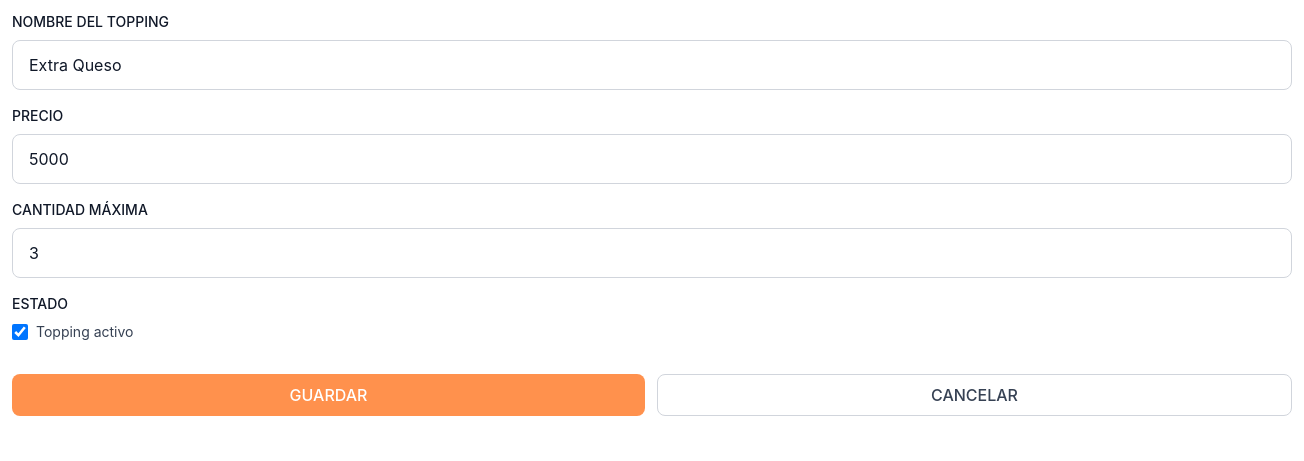
Test: EditToppingForm › Form validation › should show error when price is empty
The image size is (1304, 461).
Clear the number field showing "5000" at x=652, y=159, box [12,134,1292,184]
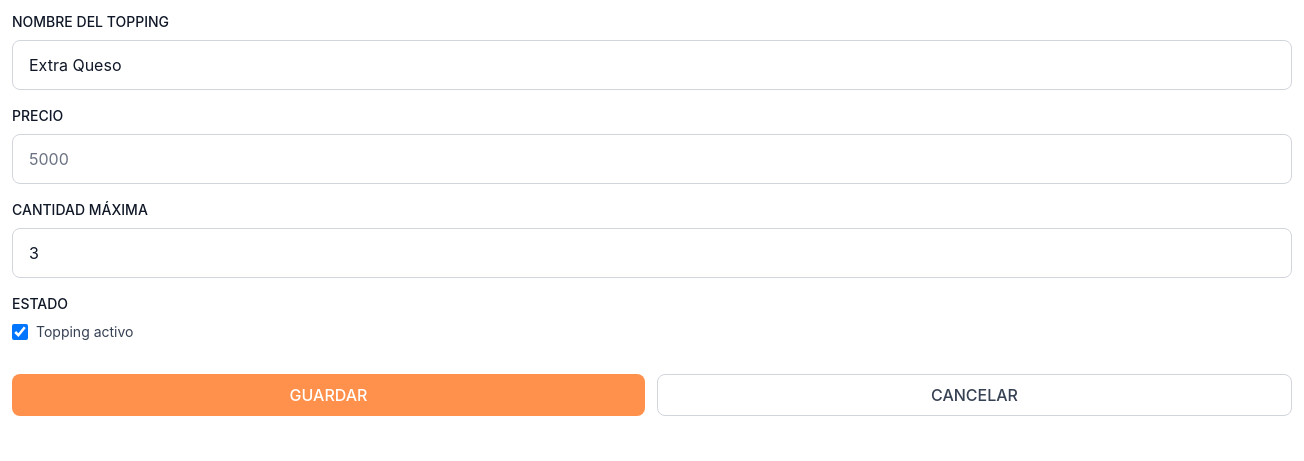
Click the button "GUARDAR" at x=328, y=395, box [12,374,645,416]
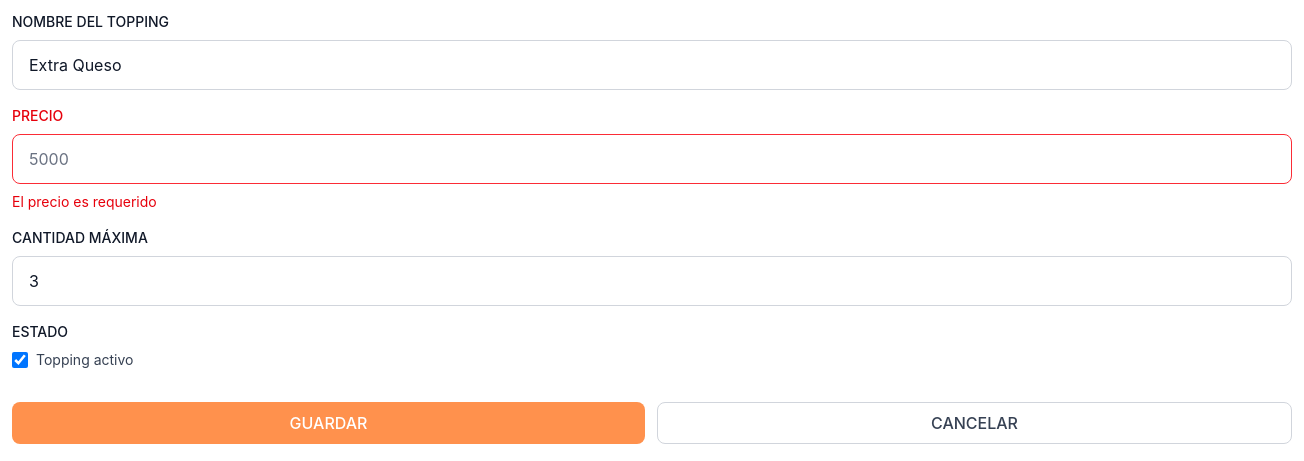
Now the text "El precio es requerido" is shown, box [12,193,157,210]
